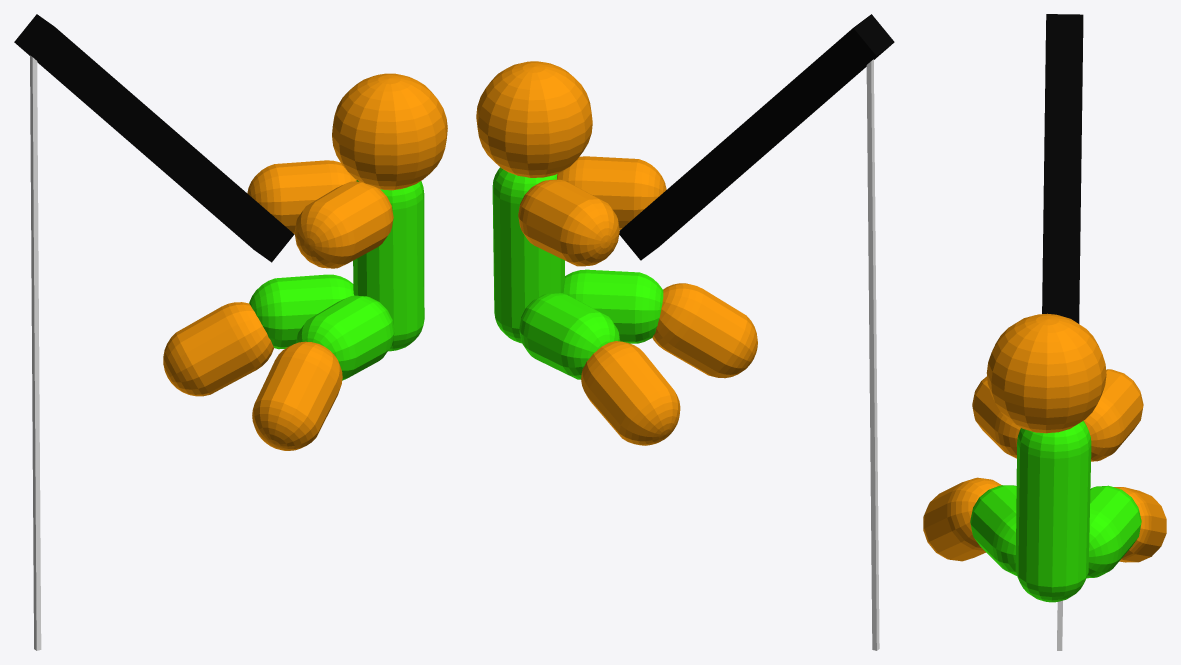
Rendered from turibito.fbx.
3 renders of one model, left to right at view 1: azimuth 30°, elevation 25°; view 2: azimuth 150°, elevation 25°; view 3: azimuth 270°, elevation 25°, orthographic. The views are drawn at different scales.
Visible parts, largest first — view 1: Cube_016, Sphere_008, Sphere_001, Sphere_007, Sphere_006, Sphere_005, Sphere_003, Cube_017, Sphere_002, Sphere_004; view 2: Cube_016, Sphere_008, Sphere_007, Sphere_001, Sphere_006, Sphere_004, Sphere_002, Sphere_003, Cube_017, Sphere_005; view 3: Sphere_001, Cube_016, Sphere_008, Sphere_006, Sphere_002, Sphere_004, Sphere_003, Sphere_007, Sphere_005.
Boxes of the visible parts, left/top/right/bottom form: Cube_016: left=14, top=14, right=294, bottom=262; Sphere_008: left=332, top=73, right=447, bottom=190; Sphere_001: left=353, top=180, right=424, bottom=351; Sphere_007: left=163, top=302, right=273, bottom=396; Sphere_006: left=252, top=341, right=342, bottom=450; Sphere_005: left=294, top=181, right=393, bottom=268; Sphere_003: left=296, top=295, right=394, bottom=380; Cube_017: left=30, top=55, right=41, bottom=650; Sphere_002: left=249, top=274, right=354, bottom=349; Sphere_004: left=247, top=160, right=356, bottom=233; Cube_016: left=619, top=14, right=894, bottom=260; Sphere_008: left=476, top=61, right=592, bottom=177; Sphere_007: left=581, top=341, right=680, bottom=445; Sphere_001: left=492, top=167, right=565, bottom=343; Sphere_006: left=652, top=283, right=757, bottom=378; Sphere_004: left=518, top=179, right=619, bottom=266; Sphere_002: left=519, top=293, right=620, bottom=379; Sphere_003: left=561, top=269, right=663, bottom=343; Cube_017: left=866, top=59, right=879, bottom=650; Sphere_005: left=557, top=156, right=666, bottom=229; Sphere_001: left=1015, top=421, right=1091, bottom=602; Cube_016: left=1042, top=14, right=1083, bottom=323; Sphere_008: left=986, top=313, right=1106, bottom=433; Sphere_006: left=923, top=477, right=1001, bottom=561; Sphere_002: left=1086, top=485, right=1141, bottom=578; Sphere_004: left=1083, top=369, right=1143, bottom=461; Sphere_003: left=970, top=485, right=1016, bottom=575; Sphere_007: left=1114, top=487, right=1166, bottom=562; Sphere_005: left=972, top=376, right=1020, bottom=458.
Bounding box in the file's own units: 260 × 380 × 131.
